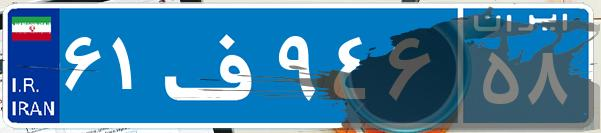1: (110, 28, 158, 105)
4: (330, 28, 385, 110)
5: (475, 38, 525, 113)
6: (385, 28, 445, 110), (57, 26, 110, 107)
8: (525, 38, 570, 115)
9: (273, 28, 330, 110)
ف: (158, 15, 273, 115)
